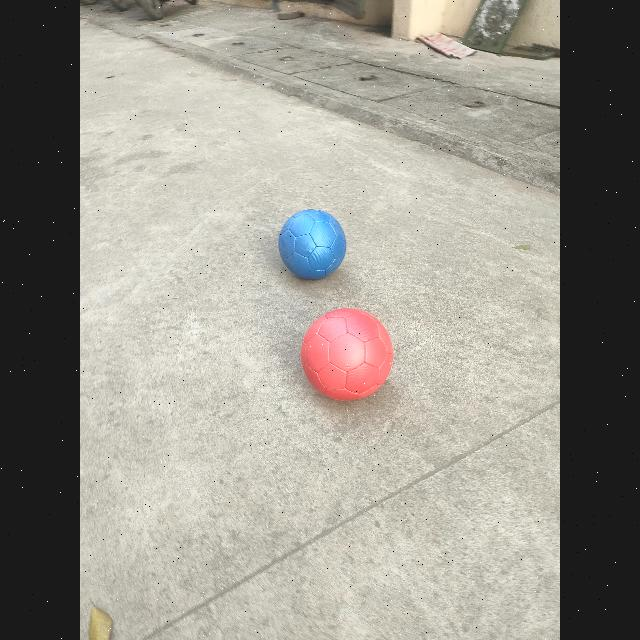B: (278, 210, 346, 282)
R: (301, 308, 394, 402)
